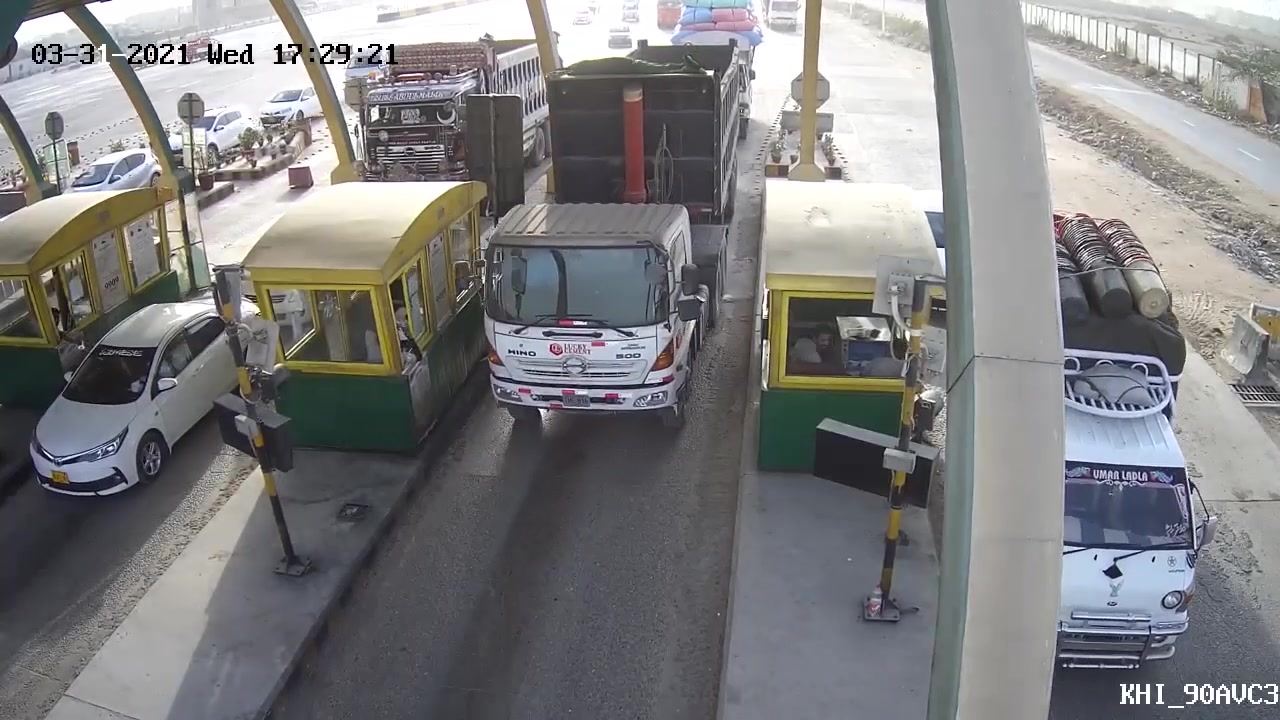F6: (466, 69, 744, 444)
